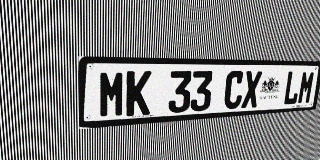3: (168, 71, 192, 113), (190, 71, 213, 112)
C: (223, 71, 245, 109)
K: (126, 71, 152, 116)
L: (282, 71, 302, 105)
M: (99, 71, 126, 118), (297, 71, 316, 104)
X: (241, 71, 262, 108)
